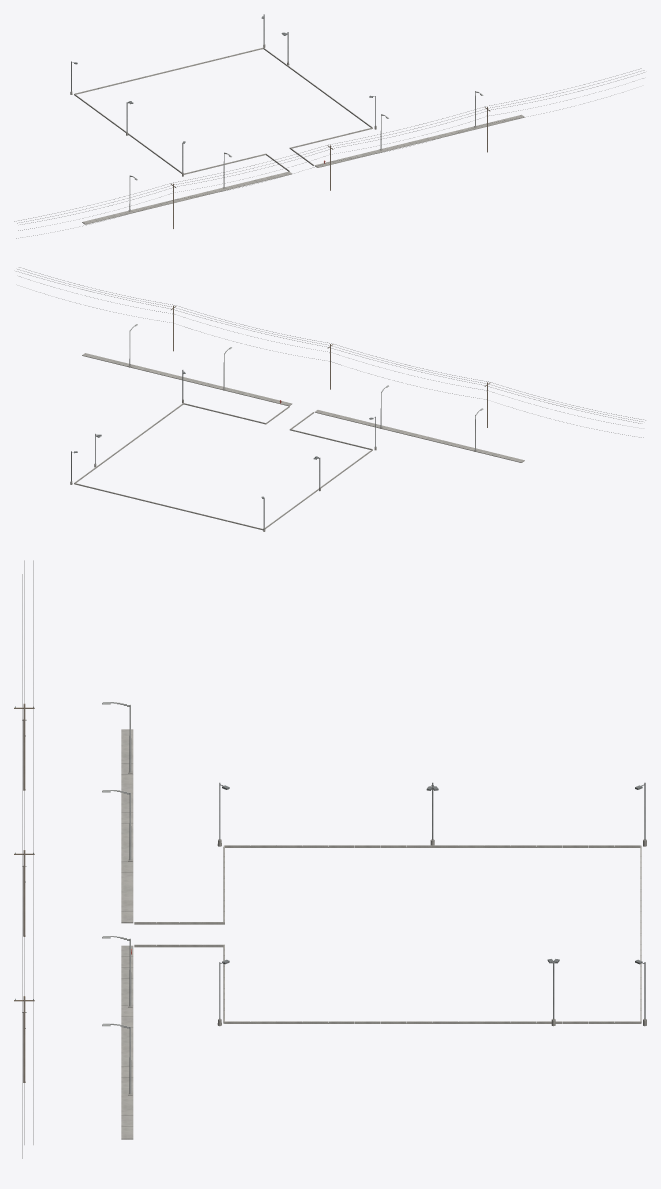
The model's file is near_props.glb.
3 renders of one model, top to bottom at view 1: azimuth 30°, elevation 25°; view 2: azimuth 150°, elevation 25°; view 3: azimuth 270°, elevation 25°, orthographic. The views are drawn at different scales.
Parts seen in each view (by area): view 1: near_props; view 2: near_props; view 3: near_props.
Part boxes in pixels (x1=…): near_props: x1=14, y1=14, x2=644, y2=238; near_props: x1=16, y1=267, x2=645, y2=531; near_props: x1=14, y1=560, x2=646, y2=1158.
Size of the model in its own units: 160 by 11 by 73.19.
Materials: 1 (1 with a texture image).
